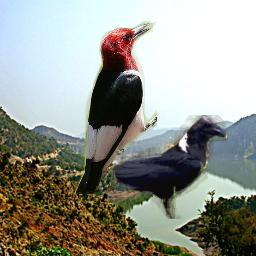Crow: (111, 115, 228, 219)
Woodpecker: (72, 21, 157, 194)
